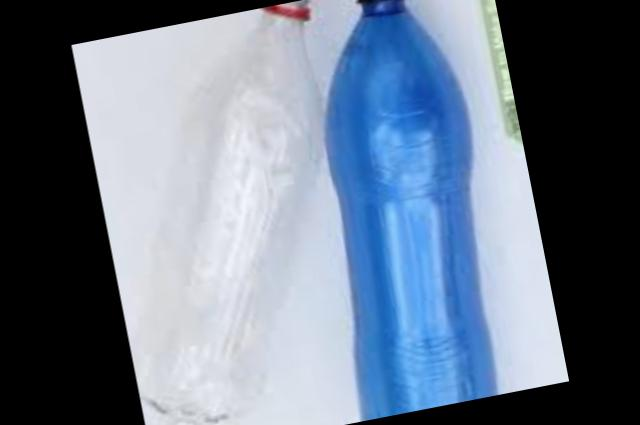plastic: (130, 16, 317, 425), (322, 0, 491, 421)
